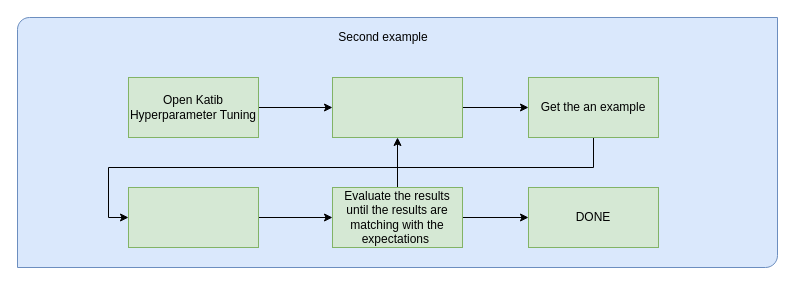
This 795x285 diagram has some shape labels left out. Each missing label, with the centre of its shape:
"Deploy it" goes at pixel 193 217.
"Get the an example and set parameter, algorithm, ect..." goes at pixel 397 107.
